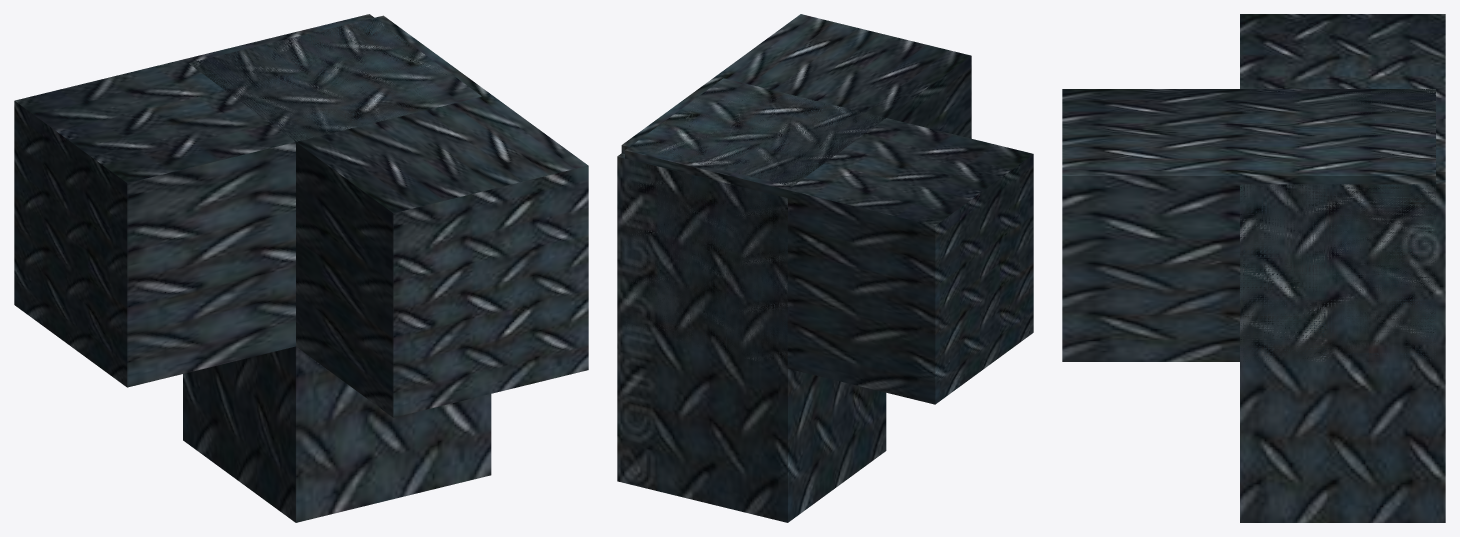
File: _3entrees.glb
The picture shows the model from 3 angles, left to right: view 1: azimuth 30°, elevation 25°; view 2: azimuth 150°, elevation 25°; view 3: azimuth 270°, elevation 25°; orthographic projection. The views are drawn at different scales.
Parts seen in each view (by area): view 1: Cube.006, Cube.005, Cube.003; view 2: Cube.006, Cube.003, Cube.005; view 3: Cube.005, Cube.003, Cube.006.
Boxes of the visible parts, <box> form: Cube.006: <box>14,14,481,387</box>; Cube.005: <box>189,15,588,417</box>; Cube.003: <box>183,346,491,522</box>; Cube.006: <box>625,78,1033,404</box>; Cube.003: <box>617,153,886,522</box>; Cube.005: <box>621,14,971,186</box>; Cube.005: <box>1062,89,1435,361</box>; Cube.003: <box>1240,180,1445,522</box>; Cube.006: <box>1240,14,1445,180</box>.
Bounding box in the file's own units: 0.82 × 0.82 × 0.82.
1 material, 1 textured.
